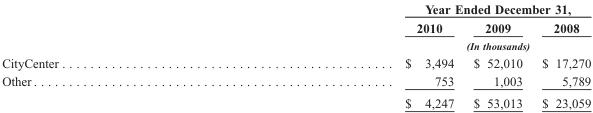table: (1, 1, 590, 109)
table column: (231, 1, 463, 109), (1, 1, 231, 109), (463, 1, 531, 109), (531, 1, 590, 109)
table column header: (1, 1, 590, 53)
table row: (1, 71, 590, 91), (1, 18, 590, 37), (1, 53, 590, 71), (1, 91, 590, 109), (1, 1, 590, 18), (1, 37, 590, 53)
table spanning cell: (231, 1, 590, 18), (231, 37, 590, 53)
